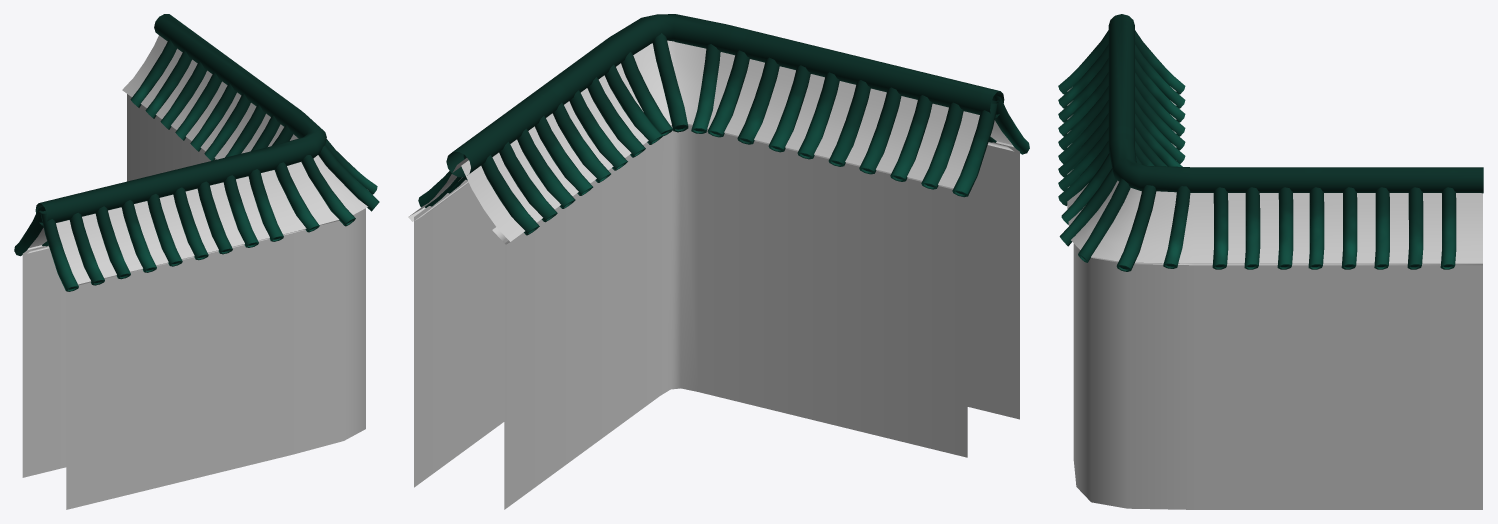
Rendered from Wall_Corner.fbx.
The picture shows the model from 3 angles, left to right: view 1: azimuth 30°, elevation 25°; view 2: azimuth 150°, elevation 25°; view 3: azimuth 270°, elevation 25°; orthographic projection. The views are drawn at different scales.
Visible parts, largest first — view 1: B1_Walls_Corner; view 2: B1_Walls_Corner; view 3: B1_Walls_Corner.
Part boxes in pixels (box(x1,y1,x2,y2)): B1_Walls_Corner: box(14, 14, 379, 509); B1_Walls_Corner: box(408, 14, 1029, 509); B1_Walls_Corner: box(1058, 14, 1483, 509).
Size of the model in its own units: 1029 by 843 by 1013.
